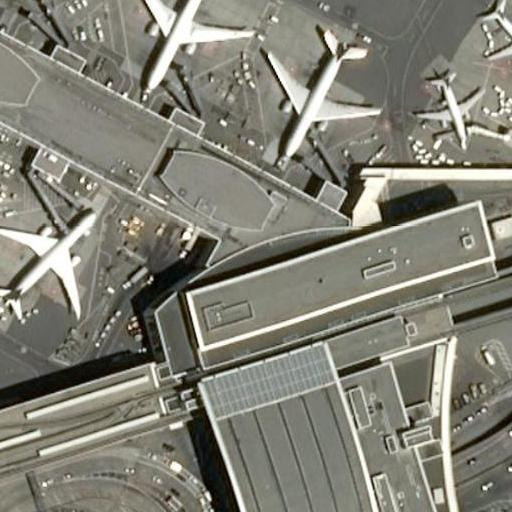Aircraft: (259, 28, 384, 162), (118, 0, 250, 97), (0, 185, 88, 325), (412, 65, 478, 147), (476, 0, 512, 76)
